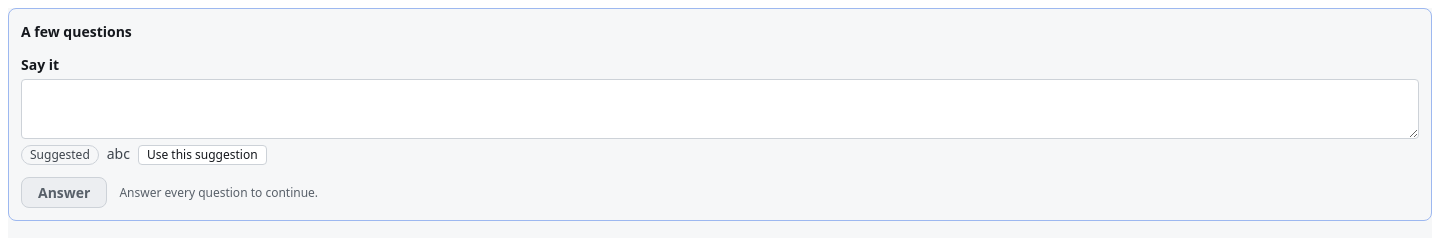
QuestionCard › disables the suggestion button once it is the answer
Click the button "Use this suggestion" at (202, 155), box [138,145,267,165]
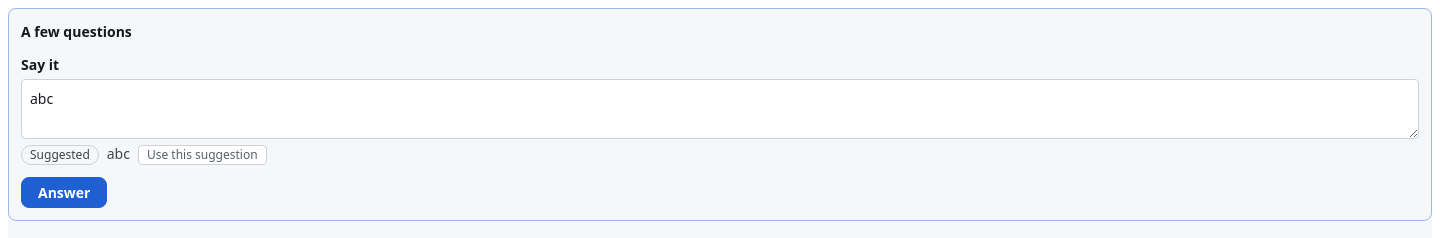
Expected: the button "Use this suggestion" is disabled, [138,145,267,165]
